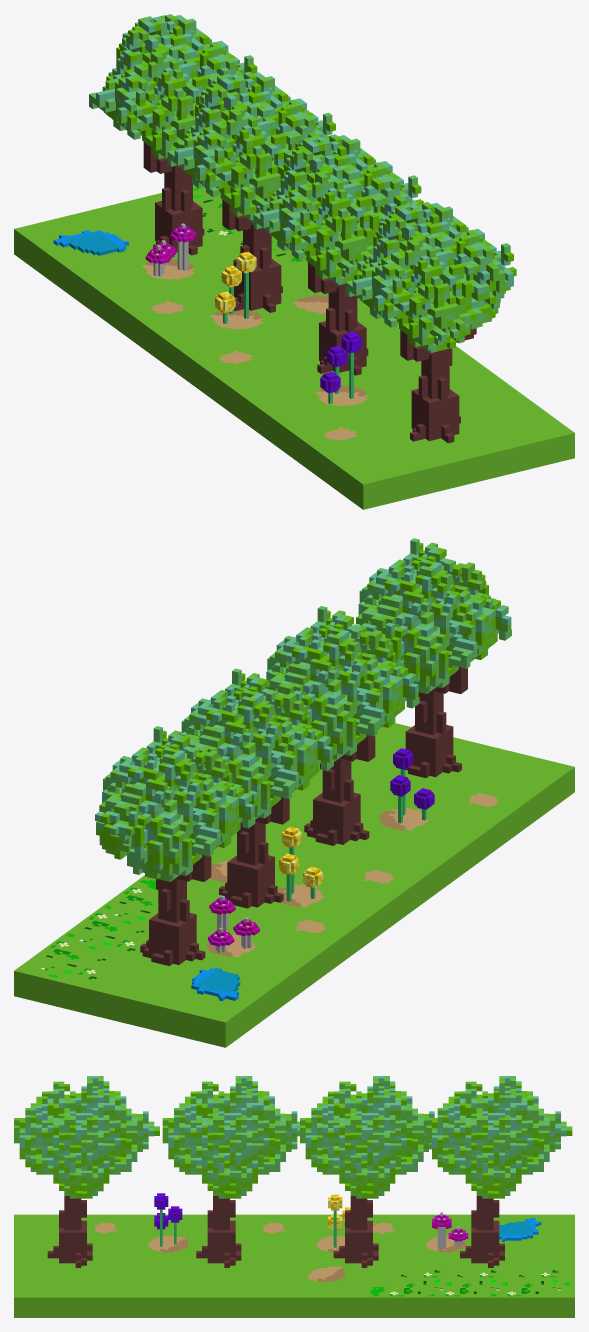
The model's file is map_v1-4.obj.
The picture shows the model from 3 angles, top to bottom: view 1: azimuth 30°, elevation 25°; view 2: azimuth 150°, elevation 25°; view 3: azimuth 270°, elevation 25°; orthographic projection. The views are drawn at different scales.
Size of the model in its own units: 7 by 7.6 by 20.
Materials: 1 (1 with a texture image).
